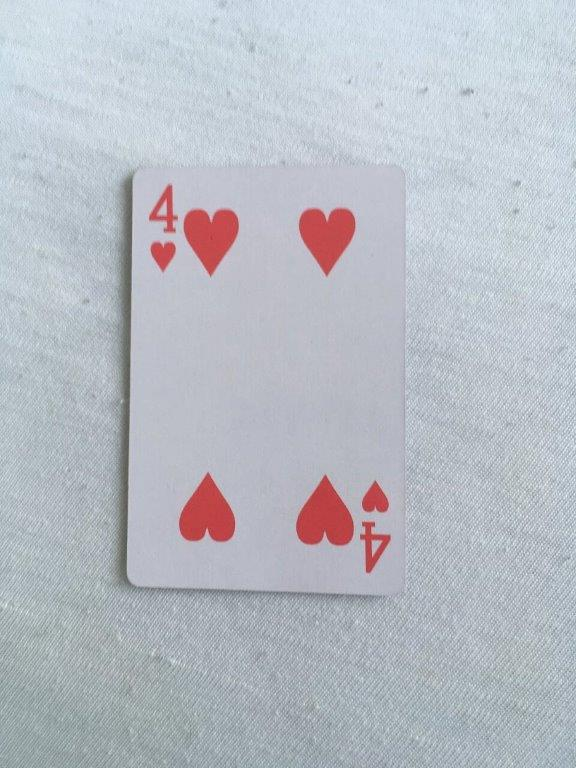4H: (123, 162, 411, 599)
